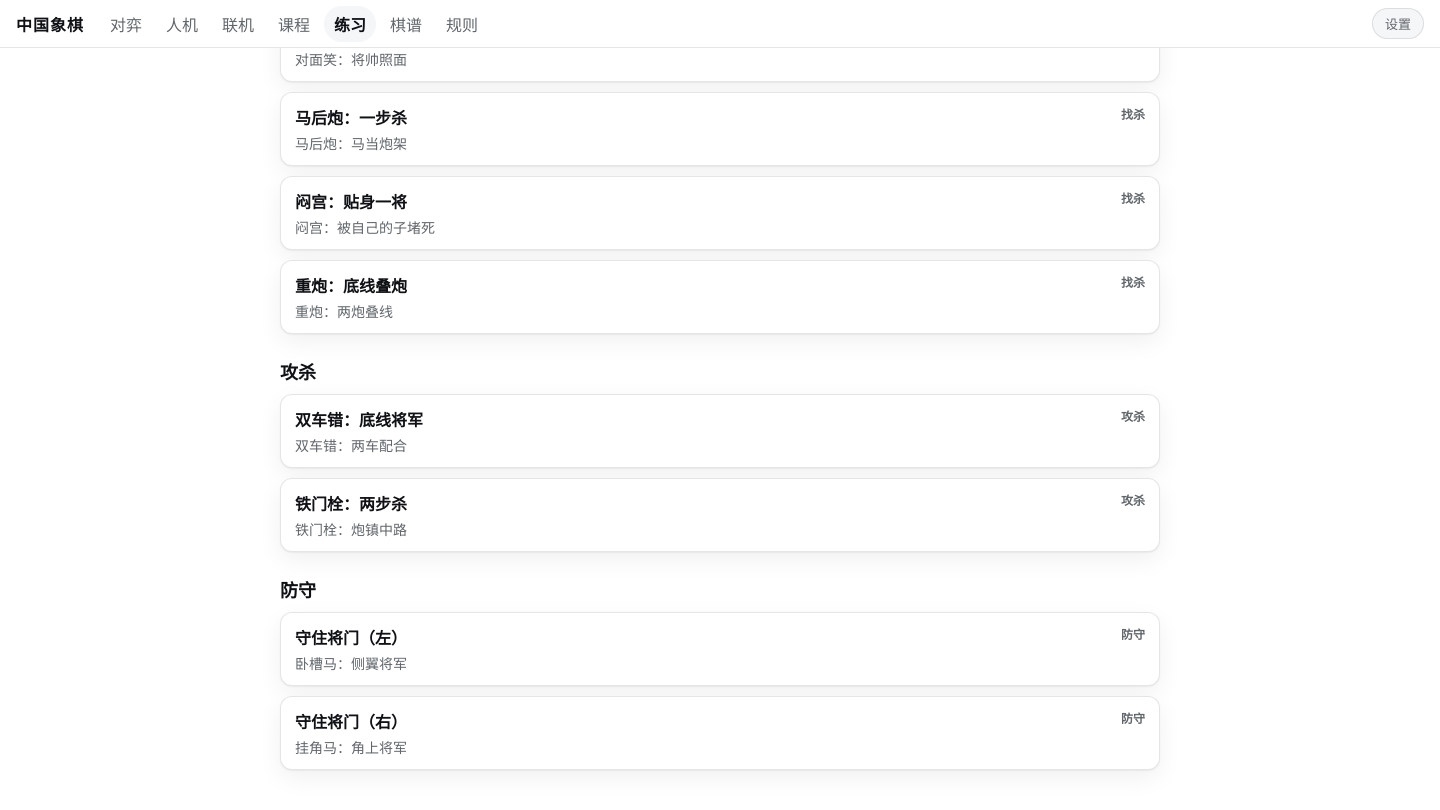
Test: F3-2 对弈题达成目标即通过 › 防守题走出化解着即通过
(page scrolled)
Click the link "守住将门（左） 防守".
click(351, 638)  # box [295, 625, 1145, 649]
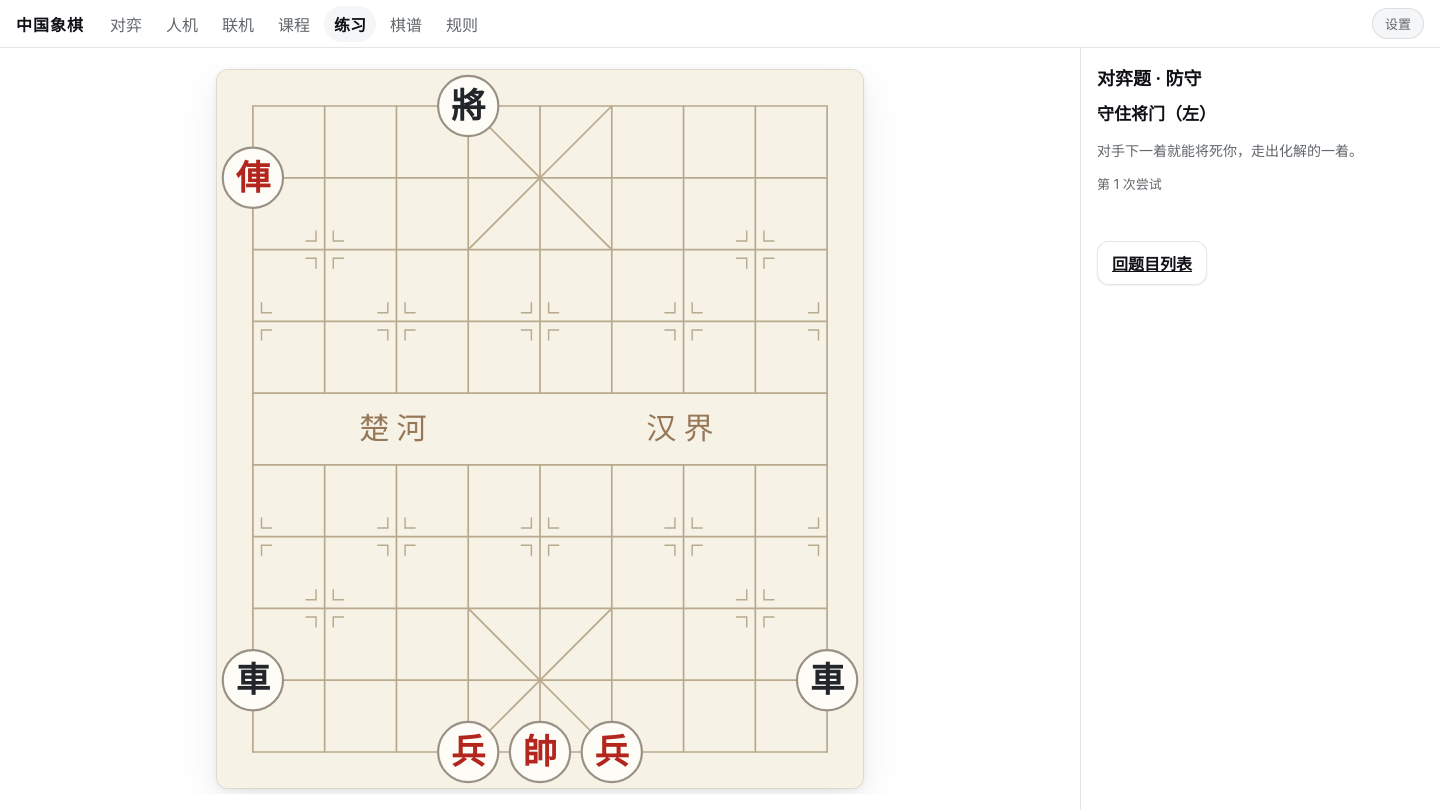
Now the heading "对弈题 · 防守" is shown, box [1097, 68, 1202, 89]
Press the mouse on the icon with class "board" at (540, 429), box [216, 69, 864, 789]
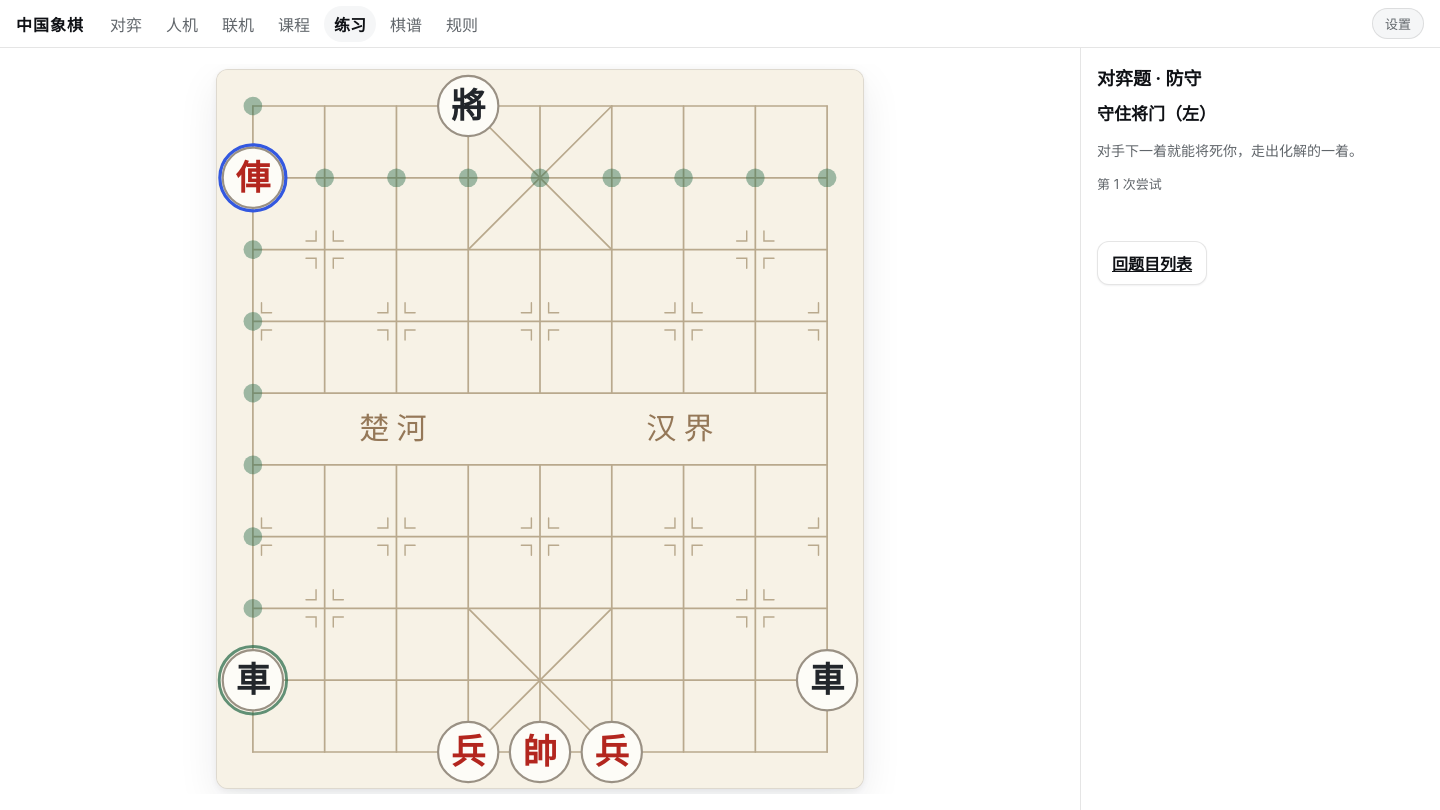
Press the mouse on the icon with class "board" at (540, 429), box [216, 69, 864, 789]
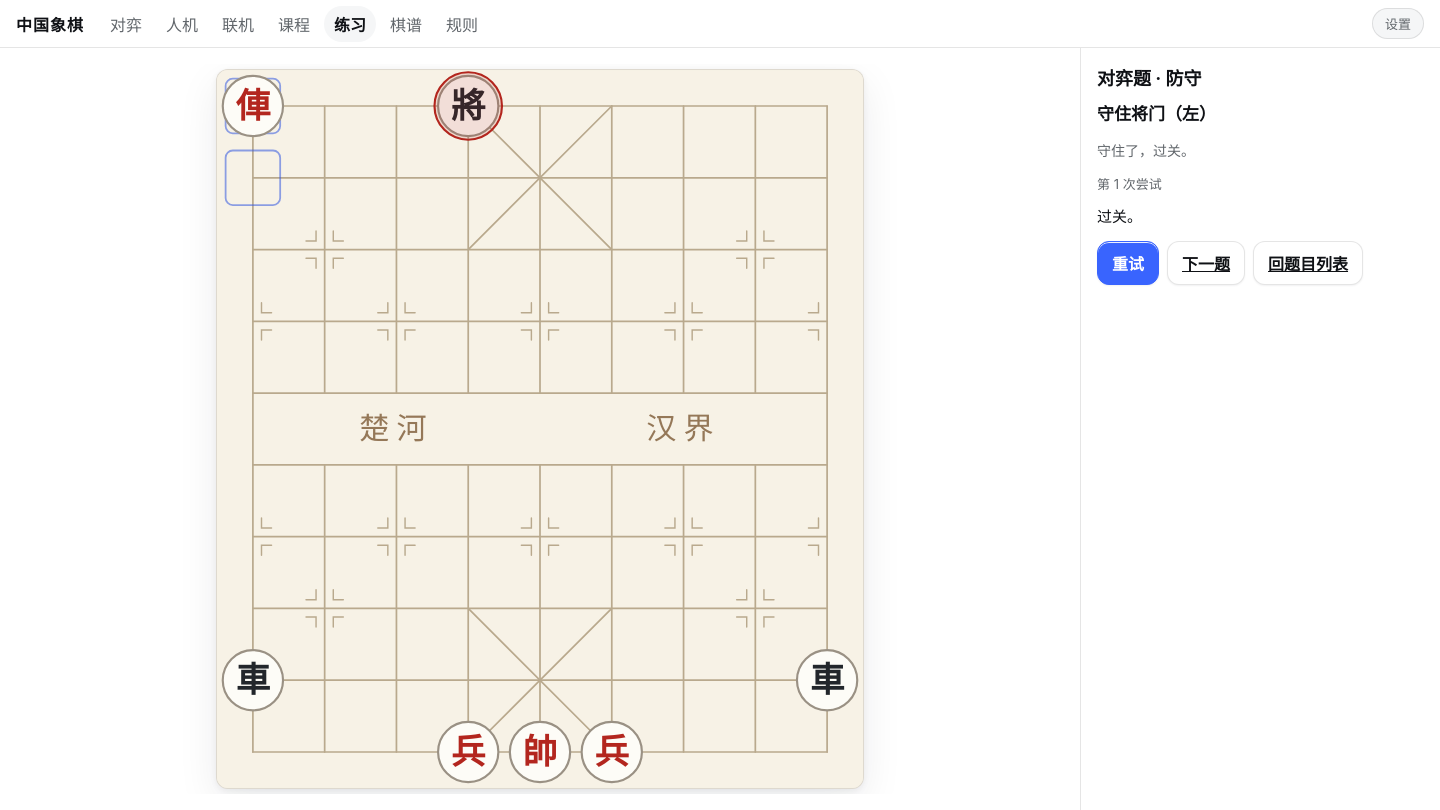
Now the message shows "过关", box [1097, 207, 1142, 226]
Now the text "守住了，过关。" is shown, box [1097, 142, 1195, 158]
